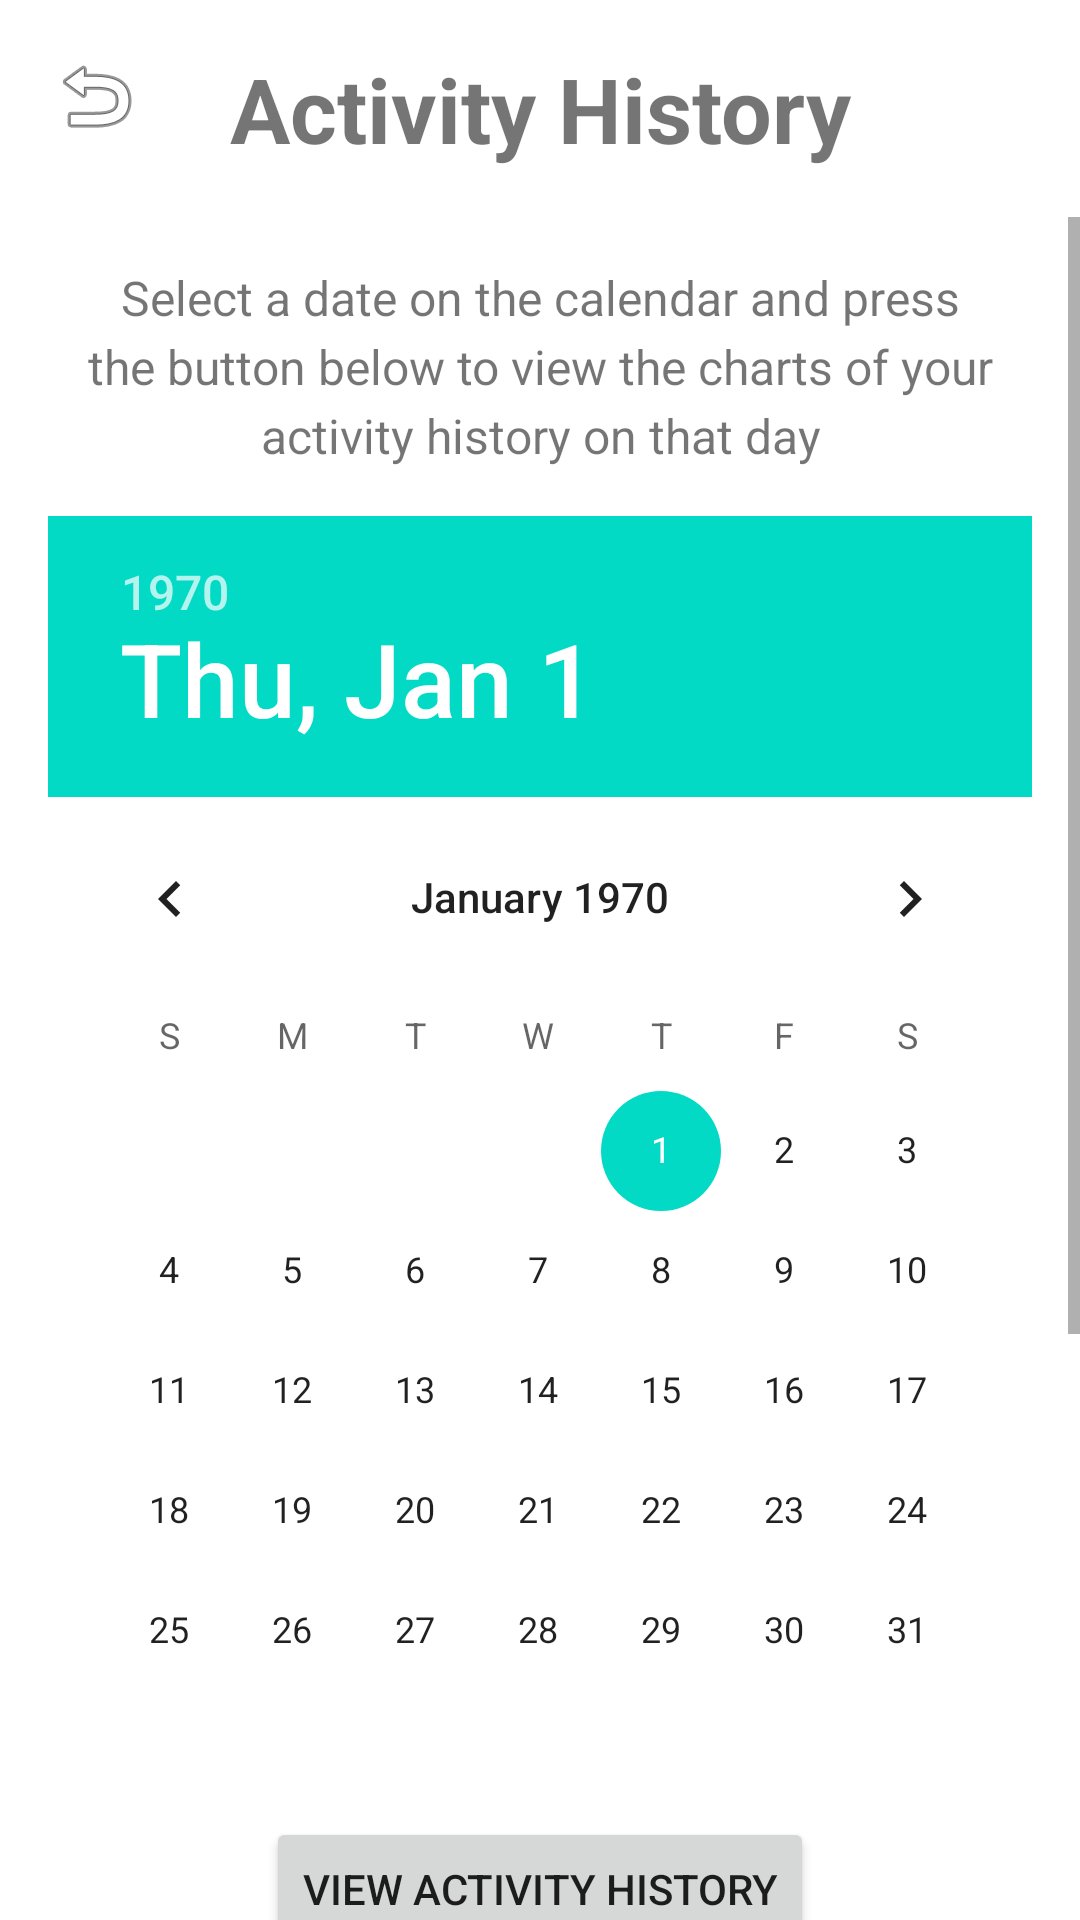

Named icons in this screenshot (1080 x 1920) and their bounding boxes, (x1, y1, x2, y2):
Go Back: (63, 65, 132, 128)
